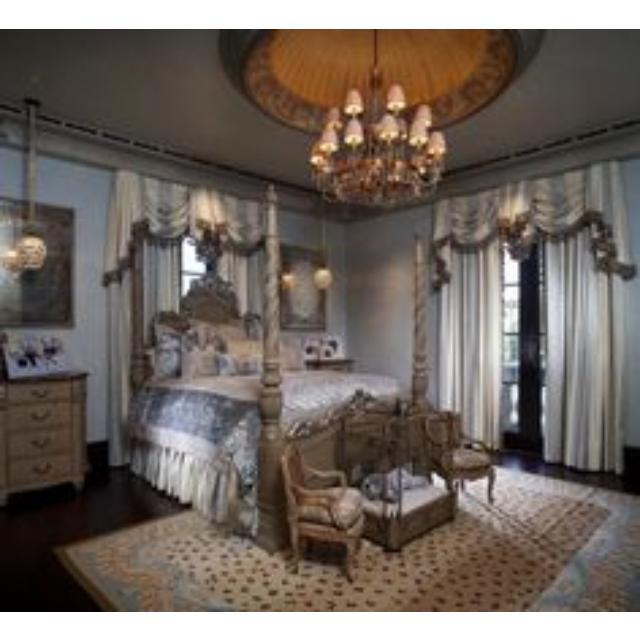bed: (130, 184, 428, 549)
chair: (281, 446, 362, 579), (422, 412, 490, 490)
curtain: (436, 158, 635, 471), (104, 171, 259, 464)
light: (310, 28, 446, 205)
rug: (58, 467, 640, 610), (561, 522, 640, 609)
wall-art: (0, 126, 74, 326)
